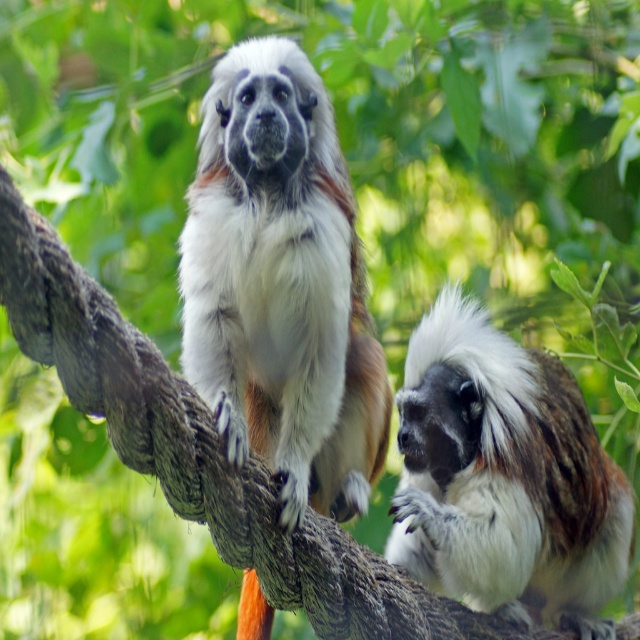Monkey: (389, 289, 636, 638)
